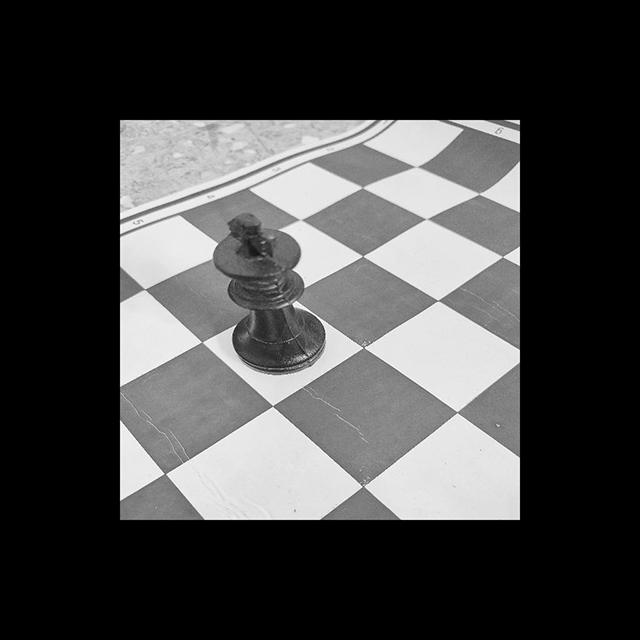black-king: (181, 195, 354, 412)
